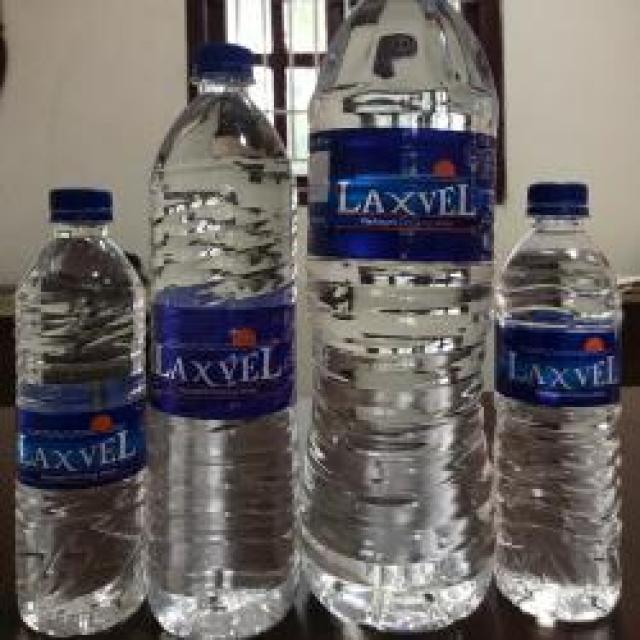bottle: (272, 0, 514, 640), (128, 25, 325, 640), (463, 174, 640, 640), (1, 171, 167, 640)
